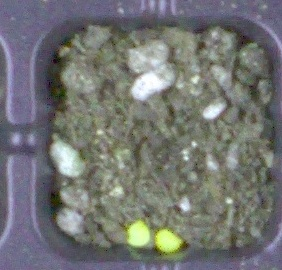chilli seed: (154, 228, 185, 254), (125, 219, 150, 247)
